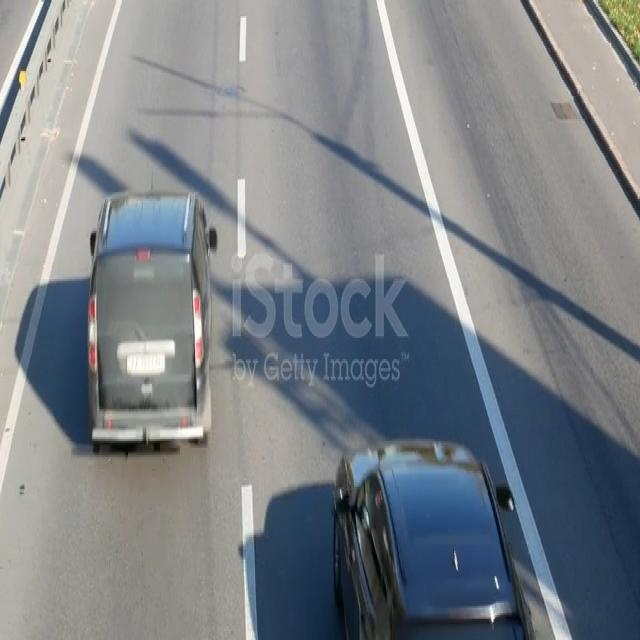Car: (332, 433, 532, 640)
Truck: (85, 178, 217, 463)
